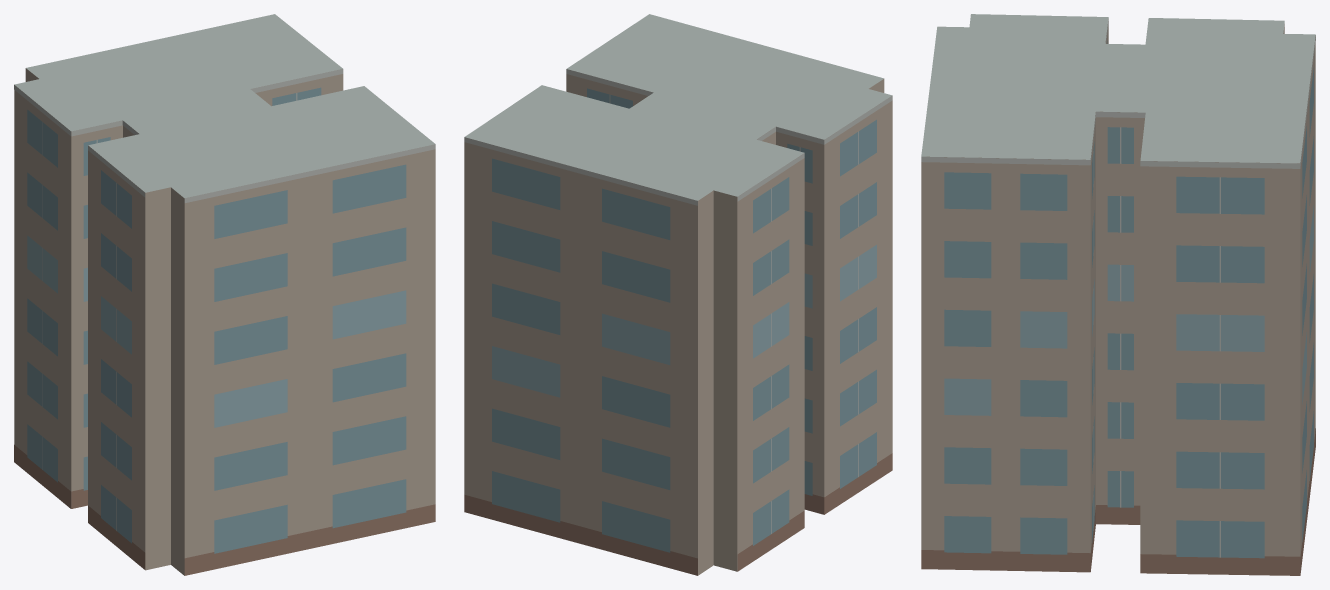
Rendered from survey-upis-32985259.glb.
The picture shows the model from 3 angles, left to right: view 1: azimuth 30°, elevation 25°; view 2: azimuth 150°, elevation 25°; view 3: azimuth 270°, elevation 25°; orthographic projection. The views are drawn at different scales.
Parts seen in each view (by area): view 1: survey-upis-32985259.tmp; view 2: survey-upis-32985259.tmp; view 3: survey-upis-32985259.tmp.
Boxes of the visible parts, <box> form: survey-upis-32985259.tmp: <box>14,14,435,575</box>; survey-upis-32985259.tmp: <box>464,14,892,575</box>; survey-upis-32985259.tmp: <box>921,14,1315,575</box>.
Size of the model in its own units: 14.23 by 18.3 by 15.88.
